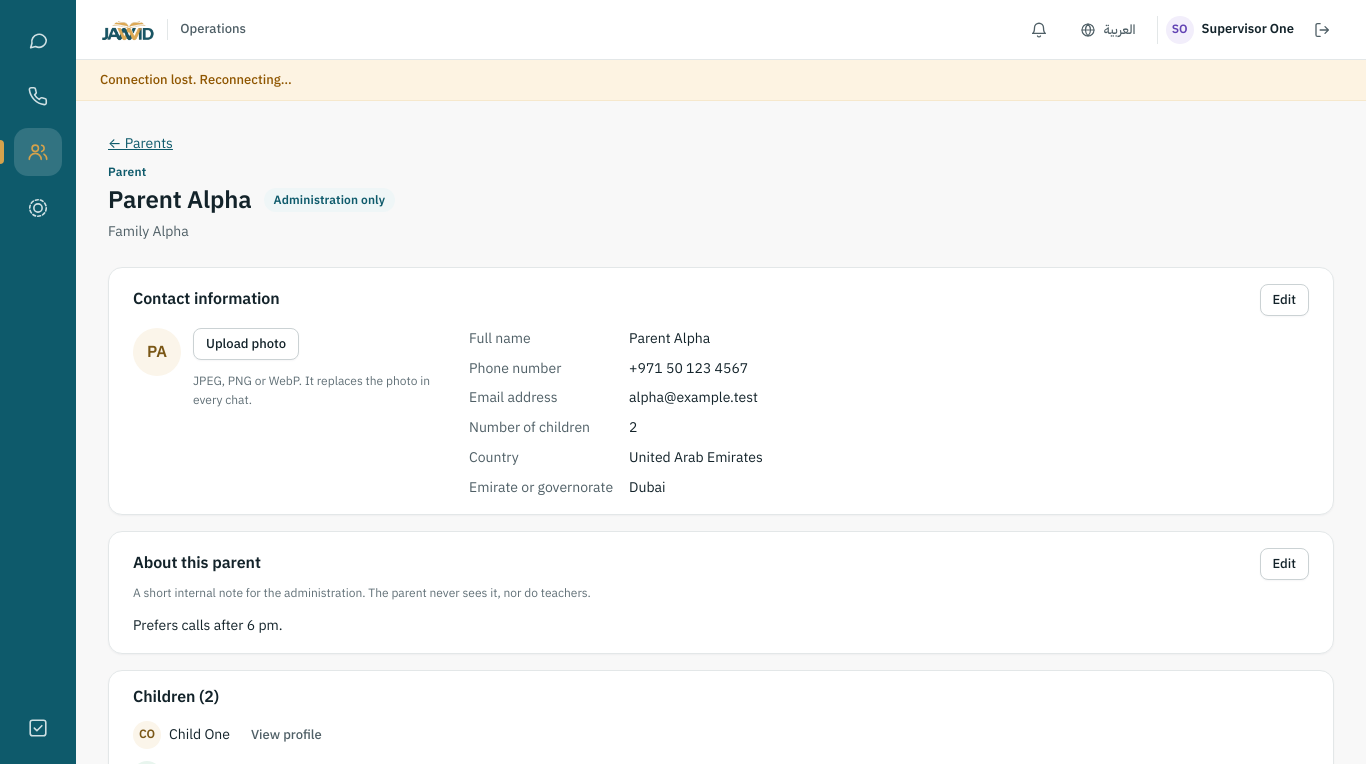
Test: the Parent Profile › an edit sends only what changed; an emptied field is cleared
The width and height of the screenshot is (1366, 764).
Click the button with aria-label "Edit contact information" at (1284, 300), box [1260,284,1309,316]
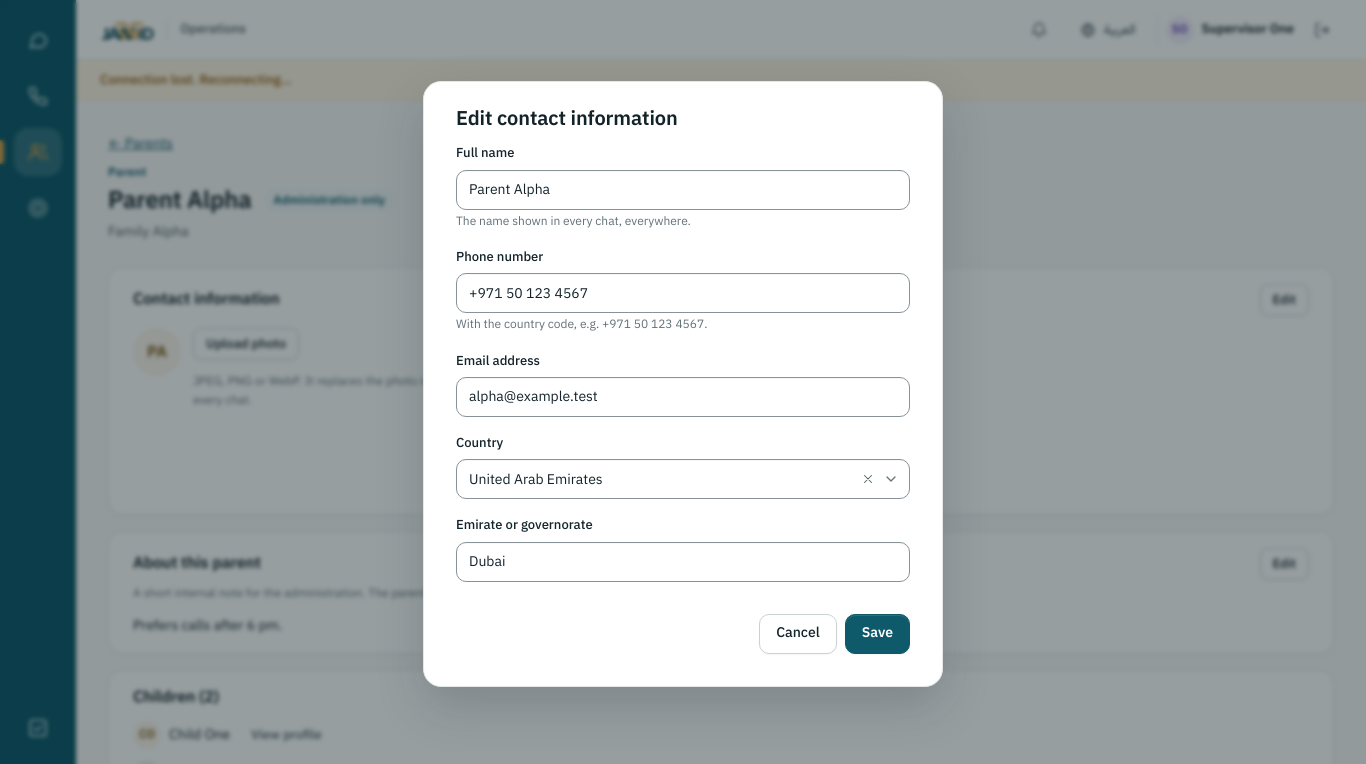
Replace the text in the field labelled "Full name" with "Parent Renamed" at (683, 190), box [456,170,910,210]
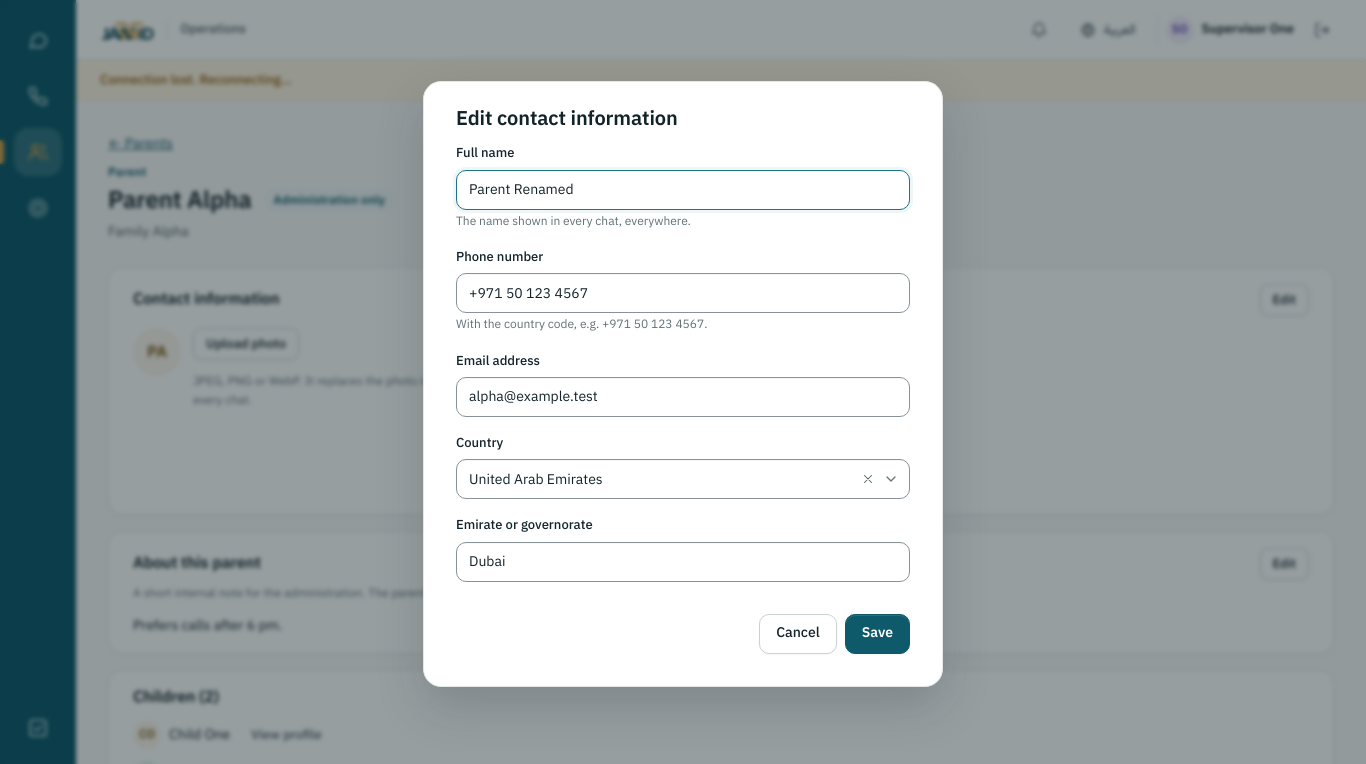
Clear the field labelled "Phone number" at (683, 293), box [456,273,910,313]
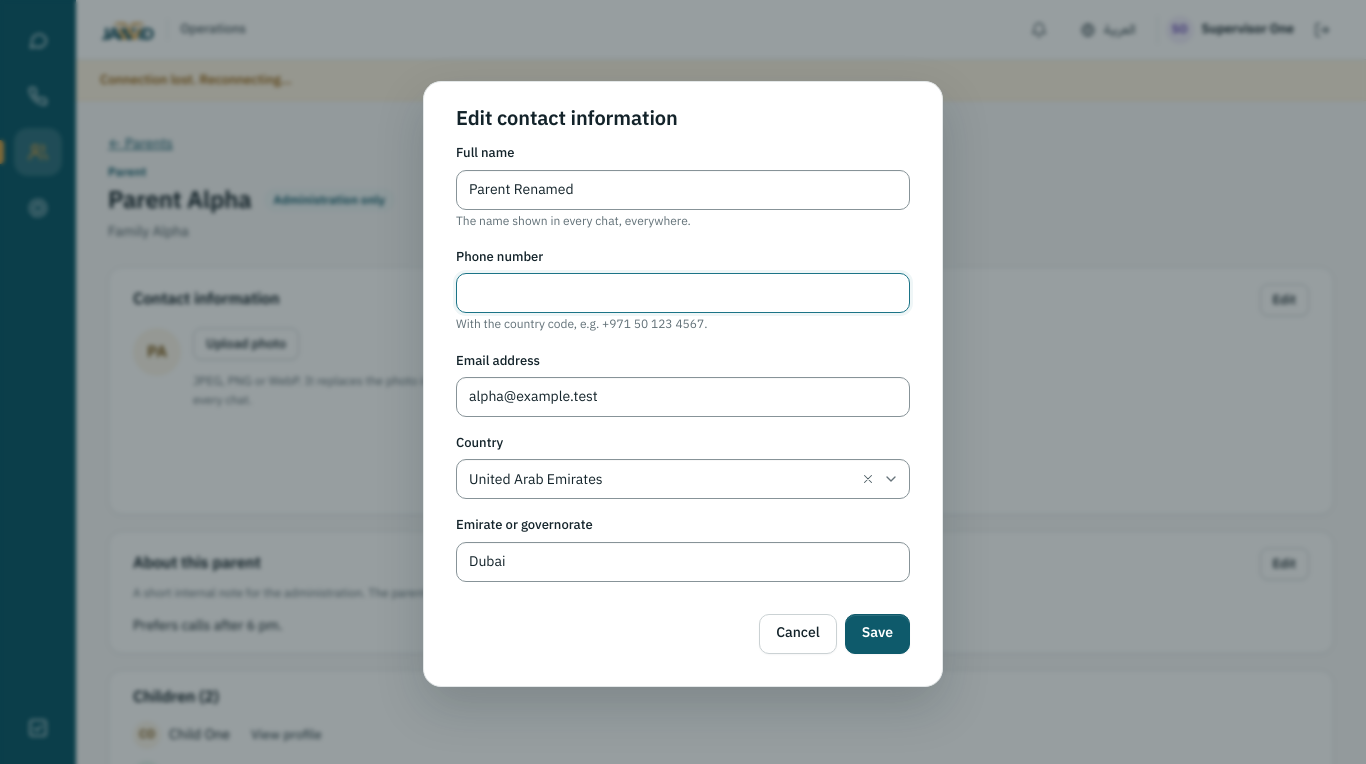
Click the button "Save" at (877, 634), box [845,614,910,654]
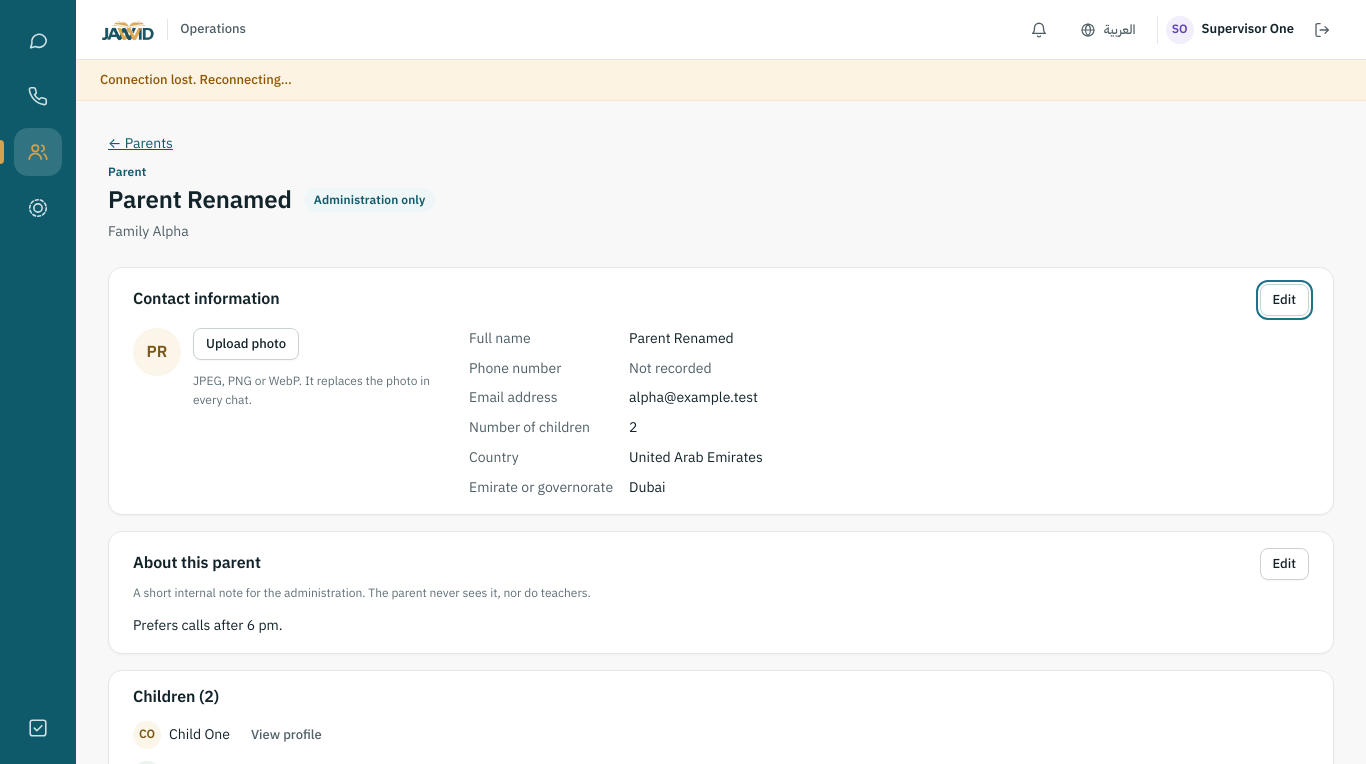
Result: the heading "Parent Renamed Administration only" is shown at [108,185,435,215]
